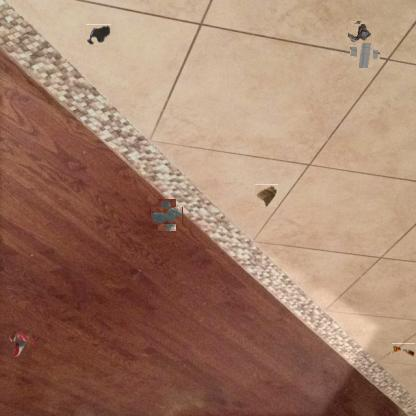dirty: (10, 332, 34, 356), (255, 184, 278, 208), (353, 42, 377, 64), (349, 22, 371, 44), (391, 343, 415, 358)
liquid: (154, 203, 180, 228), (85, 24, 111, 45)
